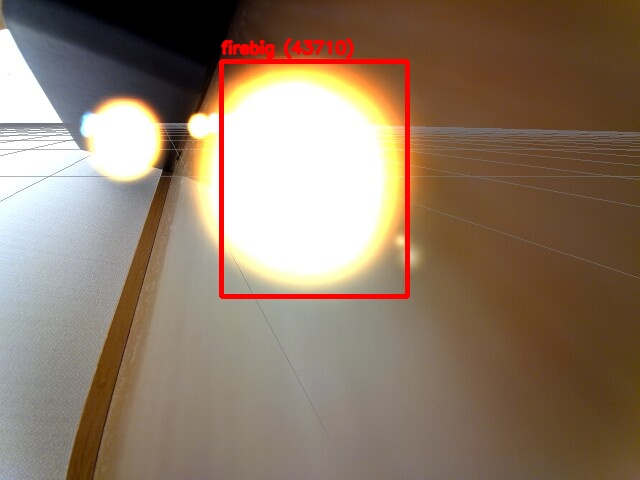firebig: (221, 61, 407, 296)
